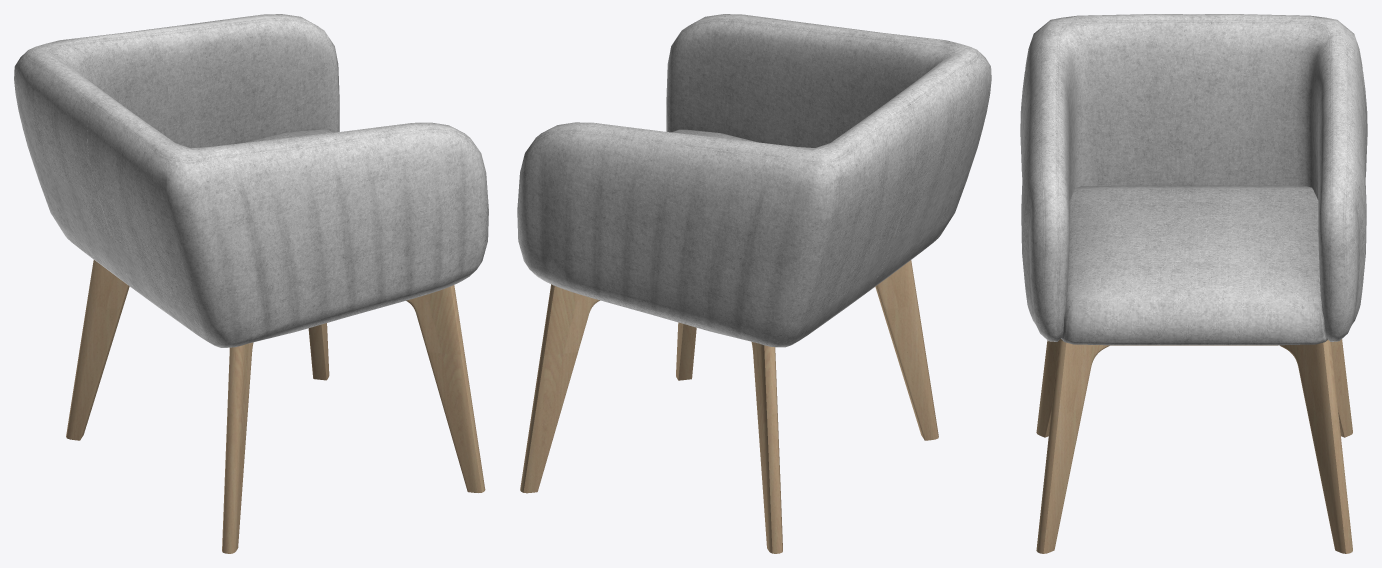
Rendered from Chair_Model_B2.glb.
The picture shows the model from 3 angles, left to right: view 1: azimuth 30°, elevation 25°; view 2: azimuth 150°, elevation 25°; view 3: azimuth 270°, elevation 25°; orthographic projection. The views are drawn at different scales.
Parts seen in each view (by area): view 1: SM_WingChair; view 2: SM_WingChair; view 3: SM_WingChair.
Part boxes in pixels (x1=…): SM_WingChair: x1=14, y1=14, x2=488, y2=553; SM_WingChair: x1=517, y1=14, x2=991, y2=553; SM_WingChair: x1=1020, y1=14, x2=1367, y2=553.
Bounding box in the file's own units: 0.5744 × 0.6862 × 0.5463.
2 materials, 2 textured.
